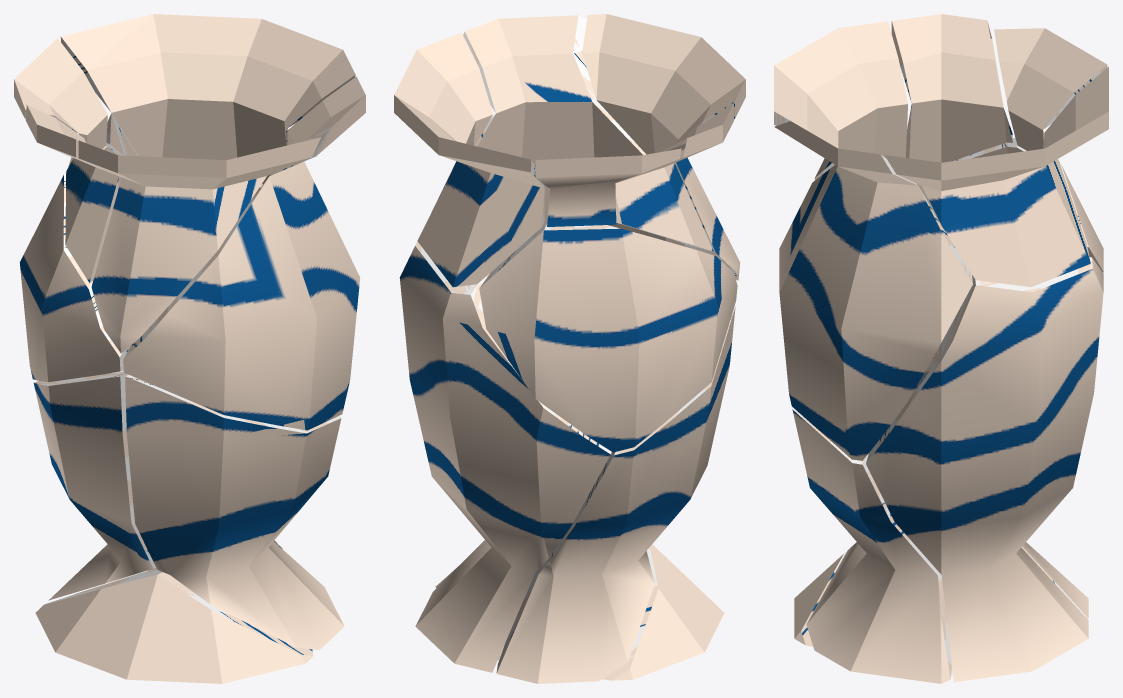
Rendered from Vase_test (1).fbx.
The picture shows the model from 3 angles, left to right: view 1: azimuth 30°, elevation 25°; view 2: azimuth 150°, elevation 25°; view 3: azimuth 270°, elevation 25°; orthographic projection.
Parts seen in each view (by area): view 1: pasted__pCylinder21_cell.006, pasted__pCylinder21_cell.007, pasted__pCylinder21_cell.009, pasted__pCylinder21_cell.001, pasted__pCylinder21_cell, pasted__pCylinder21_cell.004, pasted__pCylinder21_cell.003, pasted__pCylinder21_cell.002, pasted__pCylinder21_cell.008; view 2: pasted__pCylinder21_cell.005, pasted__pCylinder21_cell.003, pasted__pCylinder21_cell.004, pasted__pCylinder21_cell.009, pasted__pCylinder21_cell.006, pasted__pCylinder21_cell.001, pasted__pCylinder21_cell, pasted__pCylinder21_cell.002, pasted__pCylinder21_cell.008; view 3: pasted__pCylinder21_cell.005, pasted__pCylinder21_cell.006, pasted__pCylinder21_cell.007, pasted__pCylinder21_cell.009, pasted__pCylinder21_cell.001, pasted__pCylinder21_cell.002, pasted__pCylinder21_cell.008, pasted__pCylinder21_cell.003, pasted__pCylinder21_cell, pasted__pCylinder21_cell.004.
Boxes of the visible parts, bbox=[...] form: pasted__pCylinder21_cell.006: bbox=[123, 76, 365, 430]; pasted__pCylinder21_cell.007: bbox=[125, 375, 344, 650]; pasted__pCylinder21_cell.009: bbox=[60, 14, 355, 184]; pasted__pCylinder21_cell.001: bbox=[78, 130, 328, 353]; pasted__pCylinder21_cell: bbox=[35, 568, 313, 683]; pasted__pCylinder21_cell.004: bbox=[33, 372, 155, 600]; pasted__pCylinder21_cell.003: bbox=[19, 146, 130, 382]; pasted__pCylinder21_cell.002: bbox=[25, 104, 118, 282]; pasted__pCylinder21_cell.008: bbox=[14, 38, 107, 167]; pasted__pCylinder21_cell.005: bbox=[399, 241, 611, 672]; pasted__pCylinder21_cell.003: bbox=[479, 224, 737, 452]; pasted__pCylinder21_cell.004: bbox=[496, 306, 735, 683]; pasted__pCylinder21_cell.009: bbox=[394, 33, 544, 287]; pasted__pCylinder21_cell.006: bbox=[463, 15, 684, 276]; pasted__pCylinder21_cell.001: bbox=[582, 14, 745, 280]; pasted__pCylinder21_cell: bbox=[498, 544, 724, 680]; pasted__pCylinder21_cell.002: bbox=[615, 103, 733, 251]; pasted__pCylinder21_cell.008: bbox=[535, 148, 681, 226]; pasted__pCylinder21_cell.005: bbox=[866, 257, 1103, 682]; pasted__pCylinder21_cell.006: bbox=[774, 121, 972, 460]; pasted__pCylinder21_cell.007: bbox=[792, 407, 951, 683]; pasted__pCylinder21_cell.009: bbox=[884, 67, 1108, 286]; pasted__pCylinder21_cell.001: bbox=[774, 21, 907, 179]; pasted__pCylinder21_cell.002: bbox=[891, 14, 1012, 162]; pasted__pCylinder21_cell.008: bbox=[994, 28, 1107, 150]; pasted__pCylinder21_cell.003: bbox=[916, 138, 1103, 272]; pasted__pCylinder21_cell: bbox=[794, 551, 952, 675]; pasted__pCylinder21_cell.004: bbox=[1021, 542, 1088, 618].
Bounding box in the file's own units: 16.96 × 28.19 × 16.13.
